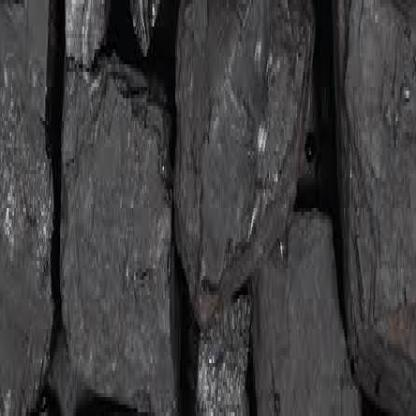Sedimentary_coal: (172, 4, 317, 302), (60, 57, 171, 412), (335, 4, 415, 393), (248, 200, 363, 412), (5, 4, 50, 408), (190, 318, 256, 412)
